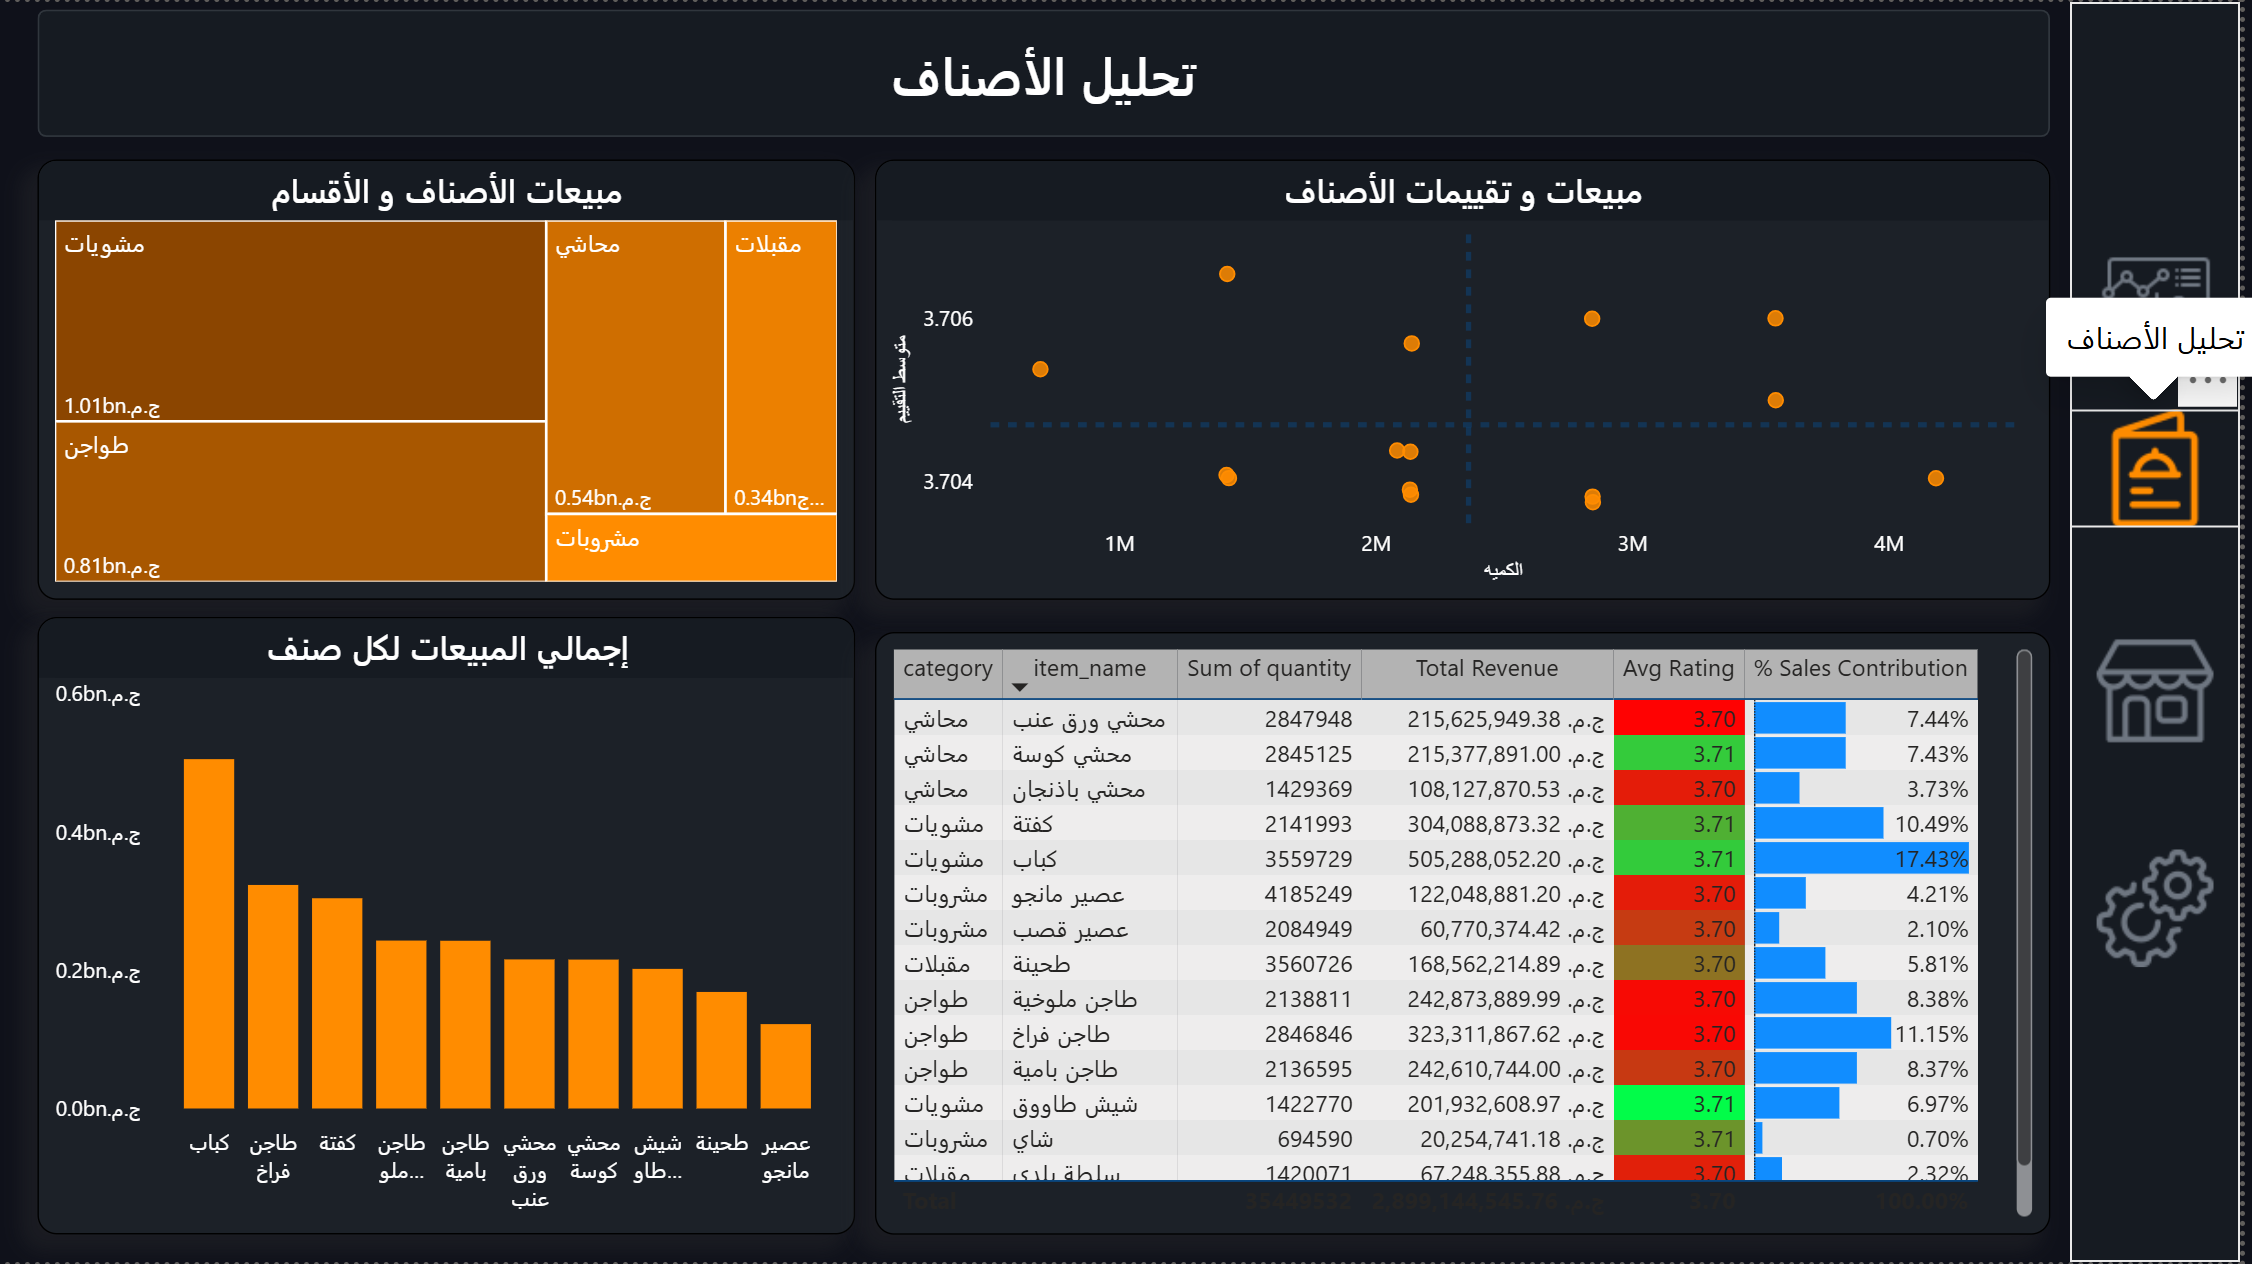

This screenshot's page, from the dashboard's own definition file:
{"tool":"powerbi","page":{"name":"Menu & Category insights","canvas":[1280,720],"ordinal":1},"visuals":[{"type":"treemap","title":"مبيعات الأصناف و الأقسام","fields":{"Group":["gold_dim_product.category Hierarchy.category","gold_dim_product.category Hierarchy.item_name"],"Values":["Generated_Measures.Total Revenue"]},"box":[21.4,90,467.1,251.4],"z":0},{"type":"clusteredColumnChart","title":"إجمالي المبيعات لكل صنف","fields":{"Y":["Generated_Measures.Total Revenue"],"Category":["gold_dim_product.item_name"]},"box":[21.4,351.4,467.1,352.9],"z":1000},{"type":"scatterChart","title":"مبيعات و تقييمات الأصناف","fields":{"X":["Sum(gold_fact_sales.quantity)"],"Y":["Generated_Measures.Avg Rating"],"Category":["gold_dim_product.item_name"]},"box":[500,90,671.4,251.4],"z":2000},{"type":"tableEx","fields":{"Values":["gold_dim_product.category","gold_dim_product.item_name","gold_fact_sales.quantity","Generated_Measures.Total Revenue","Generated_Measures.Avg Rating","Generated_Measures.% Sales Contribution"]},"box":[500,360,671.4,344.3],"z":3000},{"type":"group","id":"g1","title":"Group 1","box":[1182.9,0,97.1,720],"z":4000},{"type":"shape","box":[21.4,4.3,1150,72.9],"z":5000},{"type":"shape","box":[1182.9,0,97.1,720],"z":11000,"group":"g1"},{"type":"image","box":[1182.9,138.6,97.1,67.1],"z":13000,"group":"g1"},{"type":"image","box":[1182.9,484.3,97.1,67.1],"z":14000,"group":"g1"},{"type":"image","box":[1182.9,232.9,97.1,67.1],"z":15000,"group":"g1"},{"type":"image","box":[1182.9,360,97.1,67.1],"z":16000,"group":"g1"}]}

Visuals, with their boxes on the page's 1280x720 design canvas (x1, y1, x2, y2). These are canvas units, not pixel positions in the 2252x1264 screenshot, which may show the page scaled, cropped or inside an application window:
"مبيعات الأصناف و الأقسام" treemap: bbox=[21, 90, 488, 341]
"إجمالي المبيعات لكل صنف" clusteredColumnChart: bbox=[21, 351, 488, 704]
"مبيعات و تقييمات الأصناف" scatterChart: bbox=[500, 90, 1171, 341]
tableEx - gold_dim_product.category x gold_dim_product.item_name: bbox=[500, 360, 1171, 704]
"Group 1" group: bbox=[1183, 0, 1280, 720]
shape: bbox=[21, 4, 1171, 77]
shape: bbox=[1183, 0, 1280, 720]
image: bbox=[1183, 139, 1280, 206]
image: bbox=[1183, 484, 1280, 551]
image: bbox=[1183, 233, 1280, 300]
image: bbox=[1183, 360, 1280, 427]
